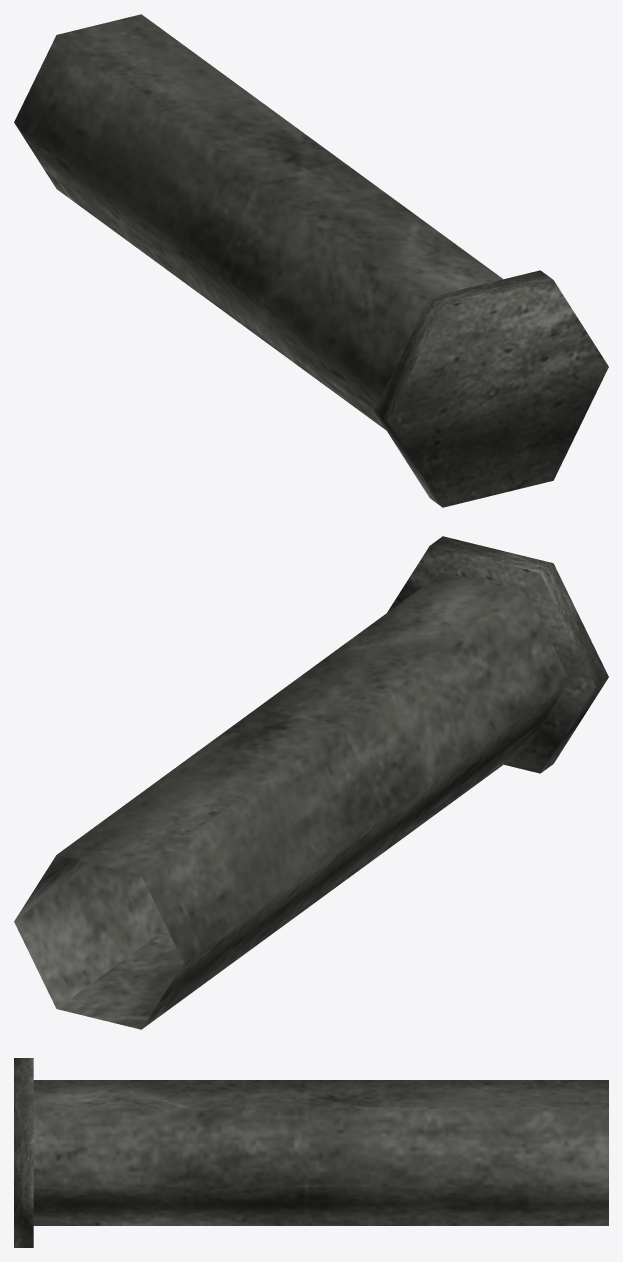
The model's file is small_metal_4.fbx.
3 views of the same model, one above another, from view 1: azimuth 30°, elevation 25°; view 2: azimuth 150°, elevation 25°; view 3: azimuth 270°, elevation 25° (orthographic). The views are drawn at different scales.
Visible parts, largest first — view 1: polySurface523; view 2: polySurface523; view 3: polySurface523.
Part boxes in pixels (box(x1,y1,x2,y2)): polySurface523: box(14, 14, 608, 507); polySurface523: box(14, 536, 608, 1029); polySurface523: box(14, 1058, 608, 1247).
Size of the model in its own units: 1.3 by 1.13 by 4.07.
